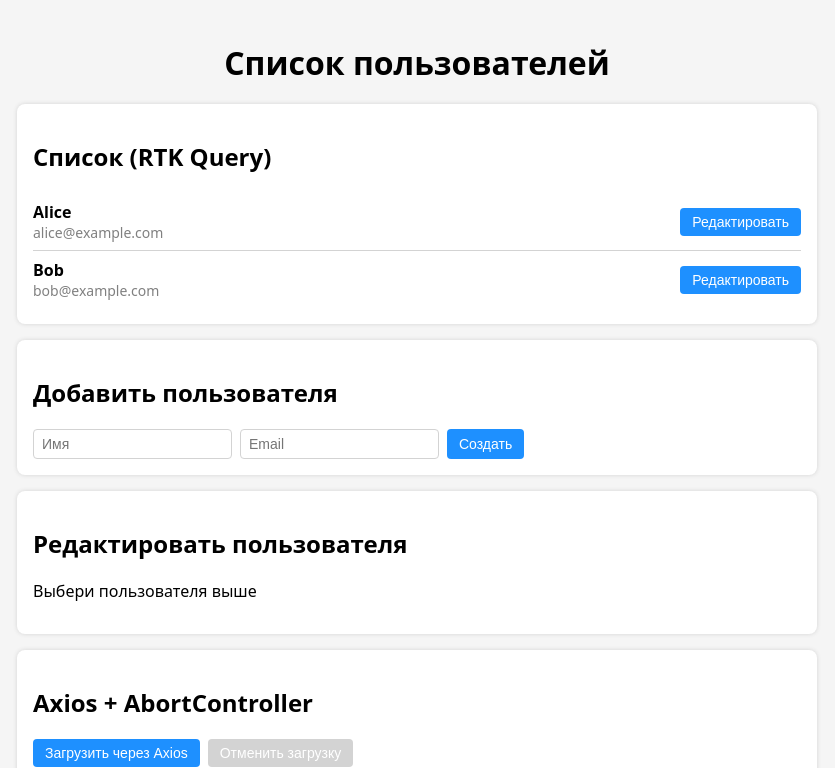
it: App › отображает пользователей из RTK Query и загружает список через Axios
The width and height of the screenshot is (835, 768).
Expected: the text "Alice" is shown, [33,201,72,223]
Expected: the text "Bob" is shown, [33,259,64,281]
Click the button "Загрузить через Axios". click: (116, 753)
box: [33,739,200,767]
(page scrolled)
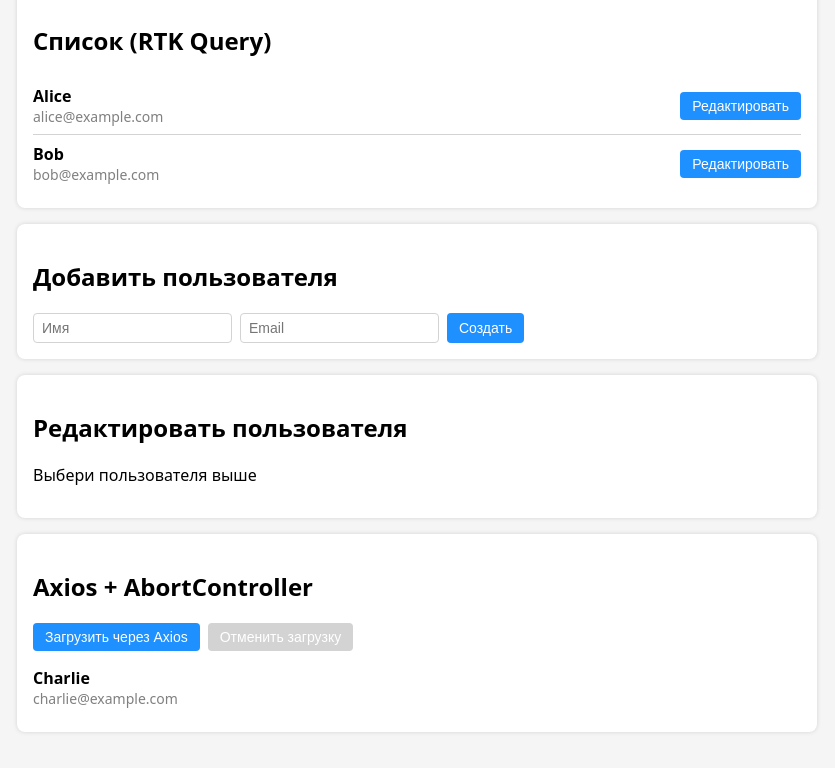
Result: the text "Charlie" is shown at [33,667,90,689]
Result: the text "charlie@example.com" is shown at [33,689,178,708]
